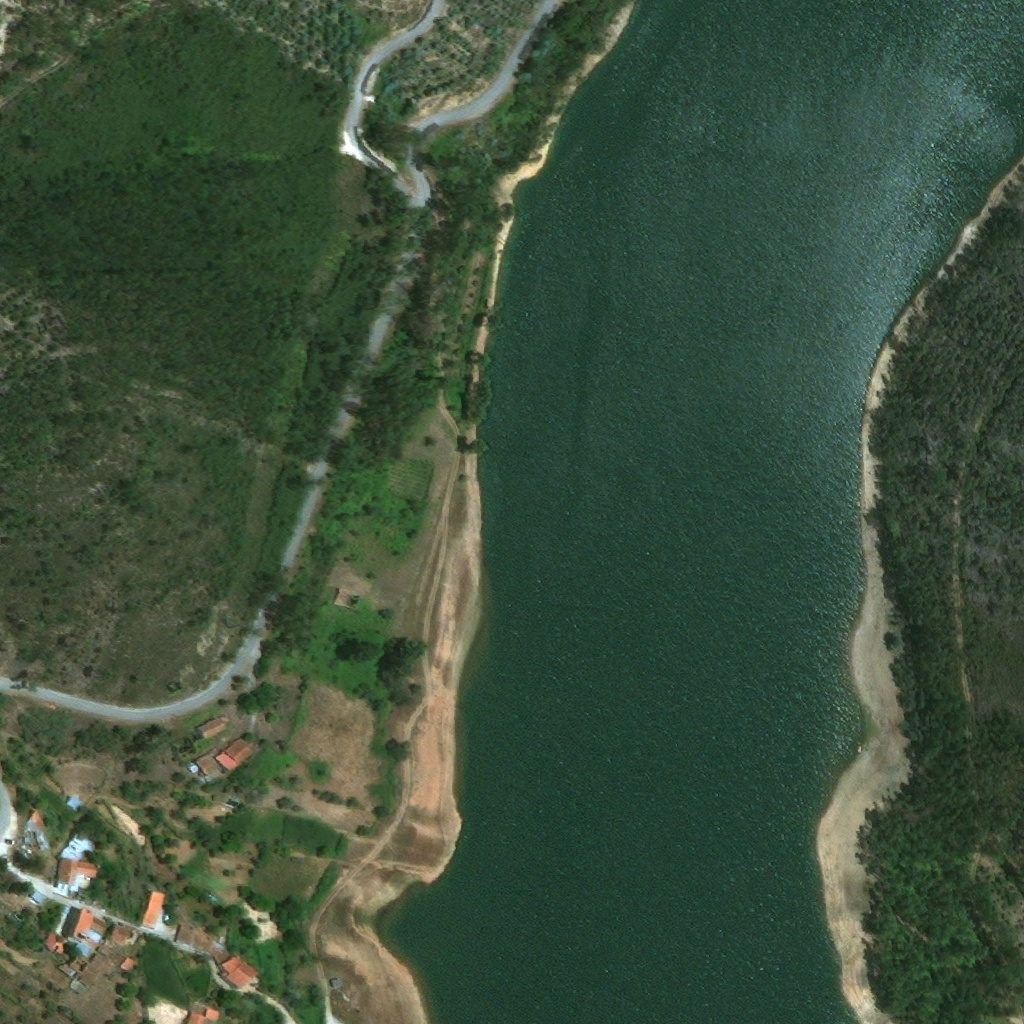0 no-damage: (174, 925, 230, 965), (68, 908, 108, 958), (214, 738, 255, 773), (57, 857, 97, 892), (70, 952, 108, 987), (221, 956, 258, 989), (58, 833, 95, 860), (141, 890, 165, 930), (197, 713, 230, 740), (27, 813, 51, 850), (185, 754, 220, 776), (110, 924, 137, 947), (42, 932, 66, 955), (173, 908, 194, 930), (120, 956, 140, 974), (15, 845, 35, 862), (65, 797, 83, 814), (188, 1012, 207, 1023), (205, 1008, 220, 1021), (32, 890, 46, 903)
